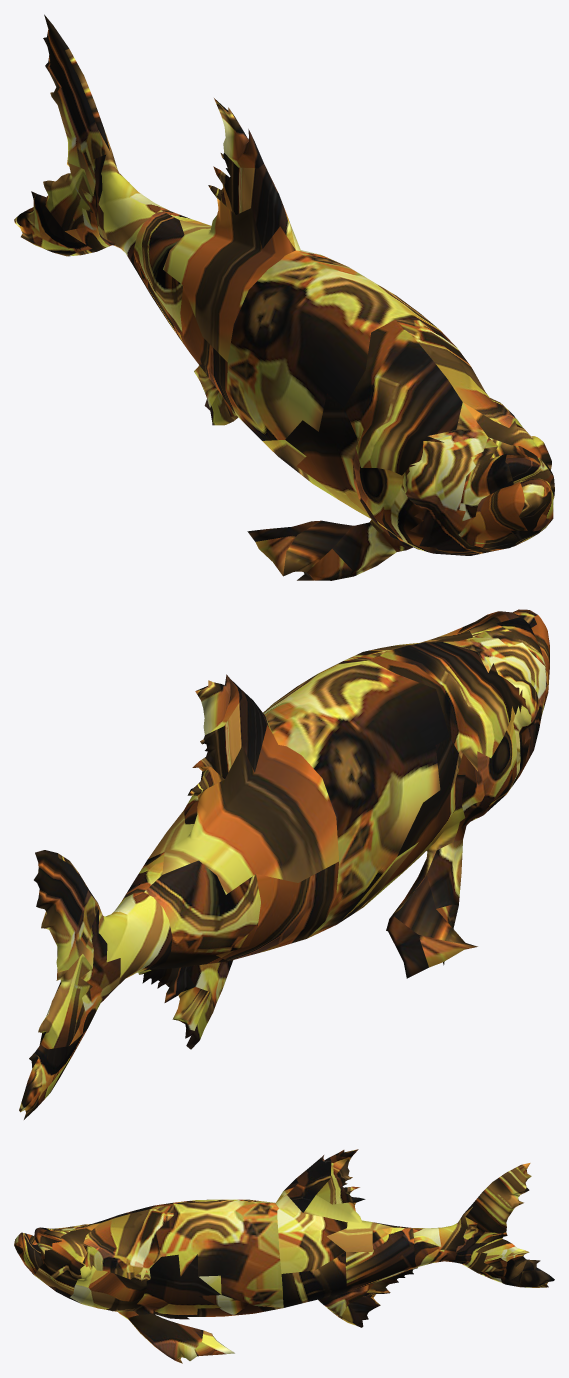
3 views of the same model, one above another, from view 1: azimuth 30°, elevation 25°; view 2: azimuth 150°, elevation 25°; view 3: azimuth 270°, elevation 25° (orthographic). The views are drawn at different scales.
Visible parts, largest first — view 1: yu14; view 2: yu14; view 3: yu14.
Part boxes in pixels (x1,y1,x2,y2): yu14: (14,14,554,580); yu14: (19,609,549,1119); yu14: (14,1149,554,1363).
Size of the model in its own units: 32.13 by 49.8 by 129.
